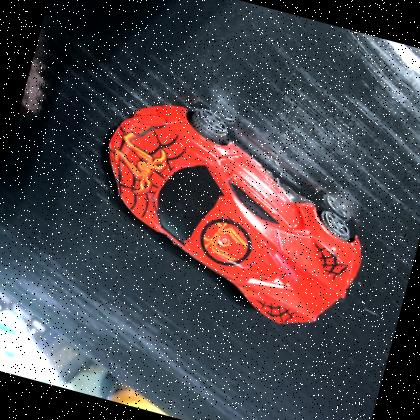Car: (109, 103, 363, 324)
